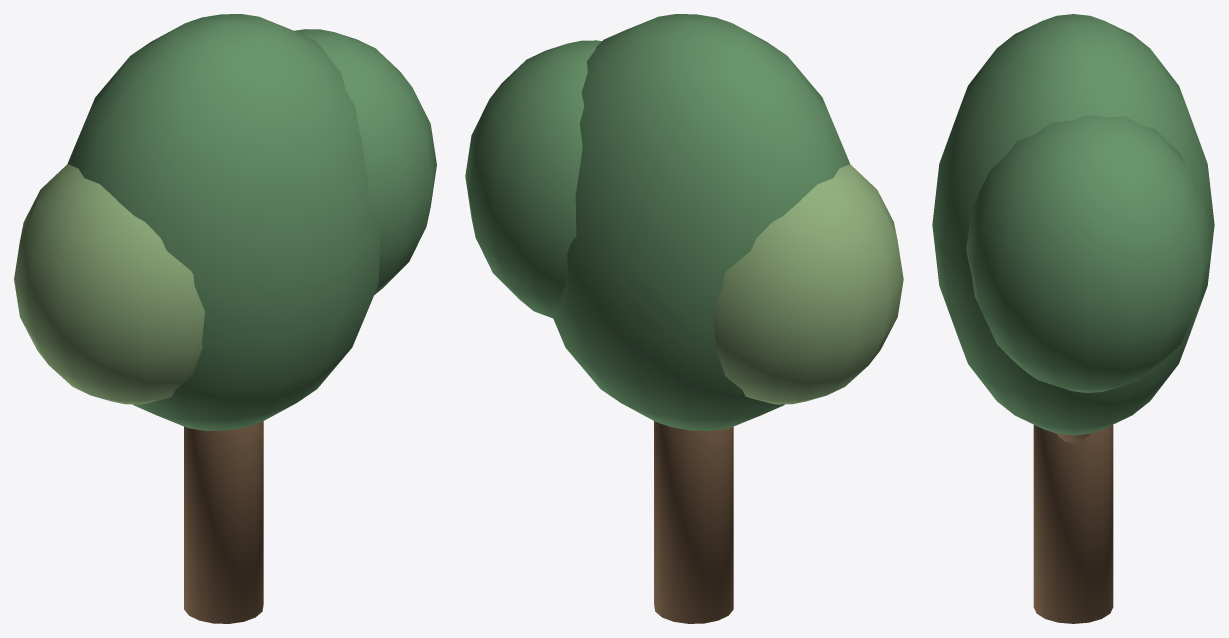
Rendered from tree.glb.
3 renders of one model, left to right at view 1: azimuth 30°, elevation 25°; view 2: azimuth 150°, elevation 25°; view 3: azimuth 270°, elevation 25°, orthographic.
Parts seen in each view (by area): view 1: body; view 2: body; view 3: body.
Part boxes in pixels (box(x1,y1,x2,y2)): body: box(14, 14, 436, 623); body: box(465, 14, 903, 623); body: box(932, 14, 1214, 623).
Size of the model in its own units: 3 by 4.17 by 1.84.
